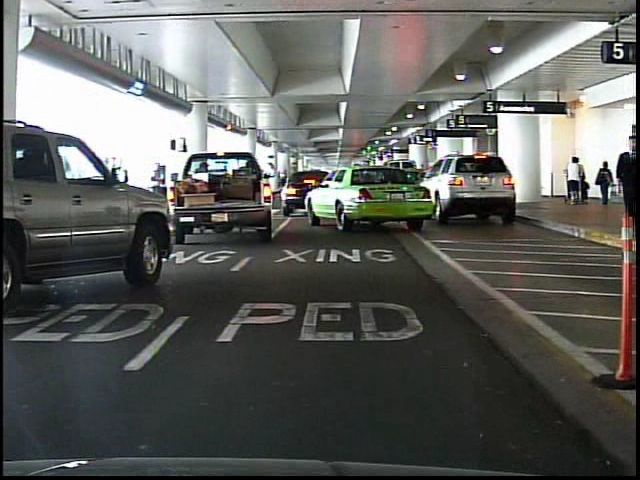person: (616, 136, 640, 245), (148, 158, 172, 219), (594, 155, 618, 206), (569, 155, 584, 206), (573, 158, 585, 209)
